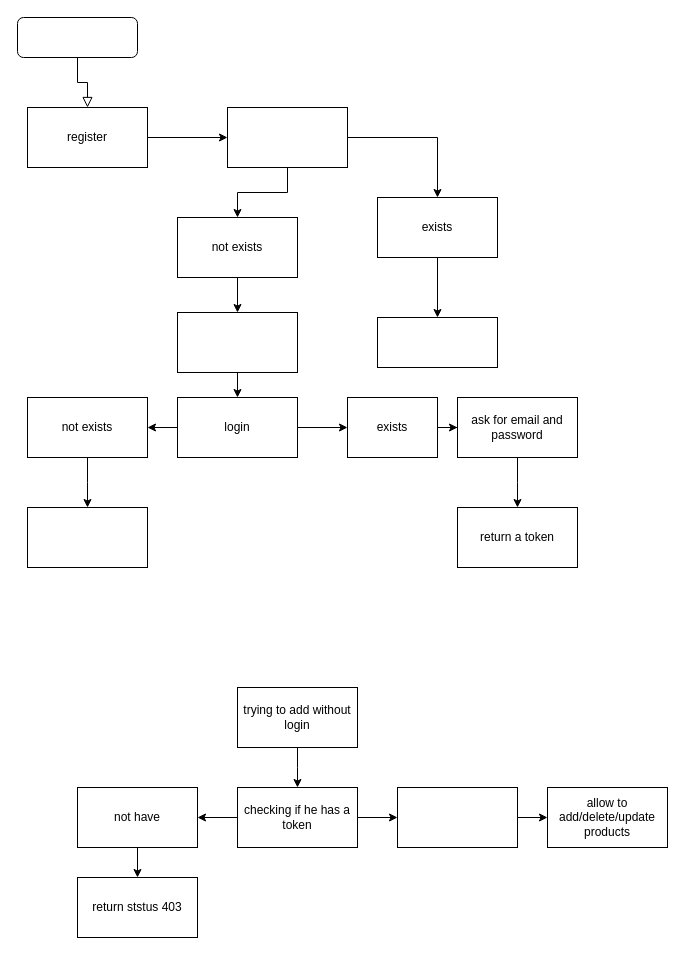
This 685x955 diagram has some shape labels left out. Each missing label, with the centre of its shape:
checks if email already exists: point (287, 137)
have: point (457, 817)
return "the email already exists": point (437, 342)
return error: point (87, 537)
updating the details inside the database and returning a passcode: point (237, 342)
user enter: point (77, 37)
